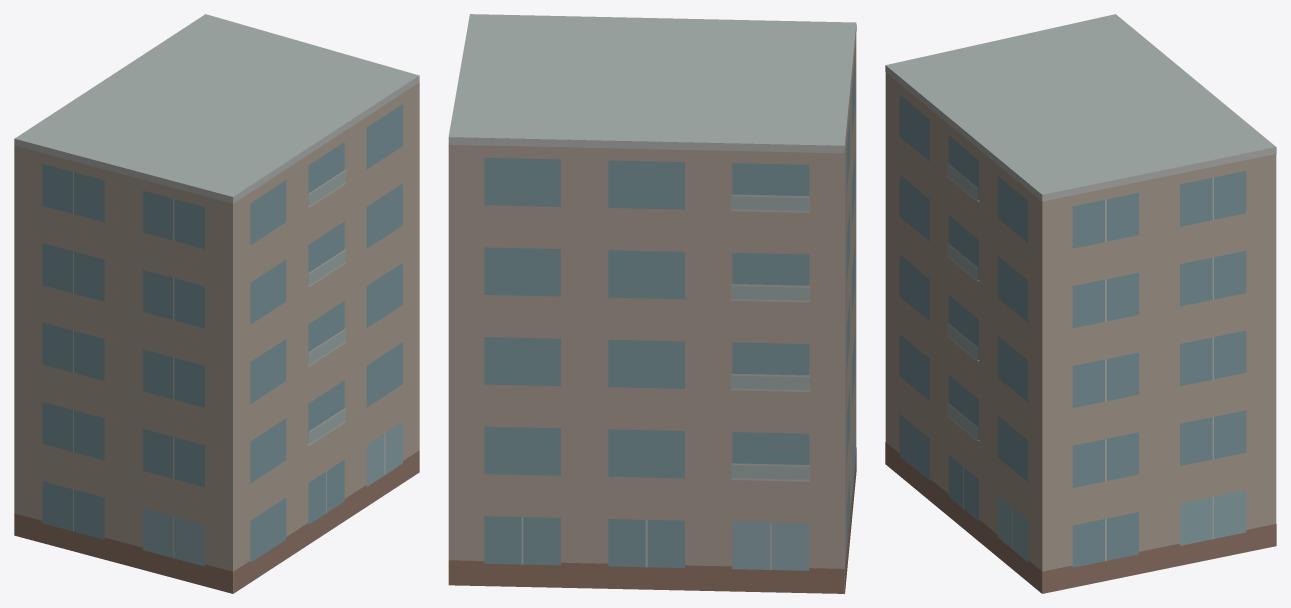
File: survey-upis-32704074.glb
3 renders of one model, left to right at view 1: azimuth 30°, elevation 25°; view 2: azimuth 150°, elevation 25°; view 3: azimuth 270°, elevation 25°, orthographic. The views are drawn at different scales.
Visible parts, largest first — view 1: survey-upis-32704074.tmp; view 2: survey-upis-32704074.tmp; view 3: survey-upis-32704074.tmp.
Part boxes in pixels (x1=…): survey-upis-32704074.tmp: x1=14, y1=14, x2=419, y2=593; survey-upis-32704074.tmp: x1=448, y1=14, x2=856, y2=593; survey-upis-32704074.tmp: x1=885, y1=14, x2=1276, y2=593.
Bounding box in the file's own units: 13.91 × 14.3 × 12.71.
